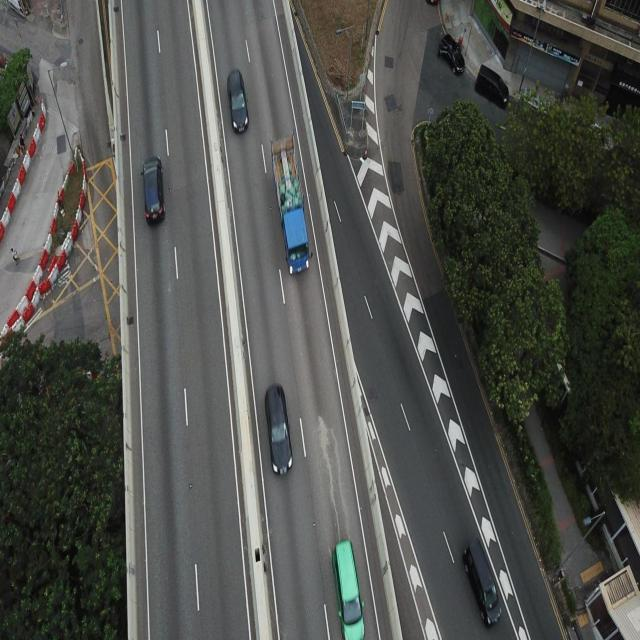p3rson: (8, 243, 20, 269), (19, 134, 26, 159)
